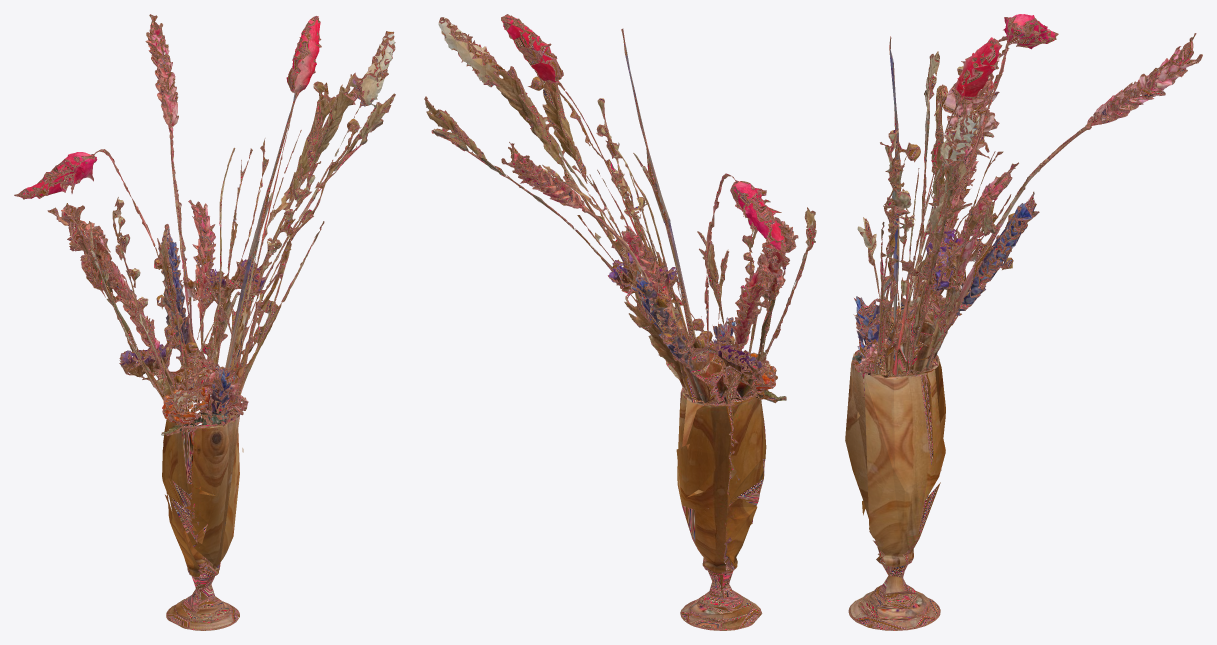
The picture shows the model from 3 angles, left to right: view 1: azimuth 30°, elevation 25°; view 2: azimuth 150°, elevation 25°; view 3: azimuth 270°, elevation 25°; orthographic projection. The views are drawn at different scales.
Visible parts, largest first — view 1: dried flowers; view 2: dried flowers; view 3: dried flowers.
Boxes of the visible parts, x1=… form: dried flowers: x1=14, y1=14, x2=395, y2=630; dried flowers: x1=424, y1=14, x2=816, y2=630; dried flowers: x1=845, y1=14, x2=1202, y2=630.
Size of the model in its own units: 0.4864 by 0.7 by 0.3411.
Materials: 1 (1 with a texture image).
